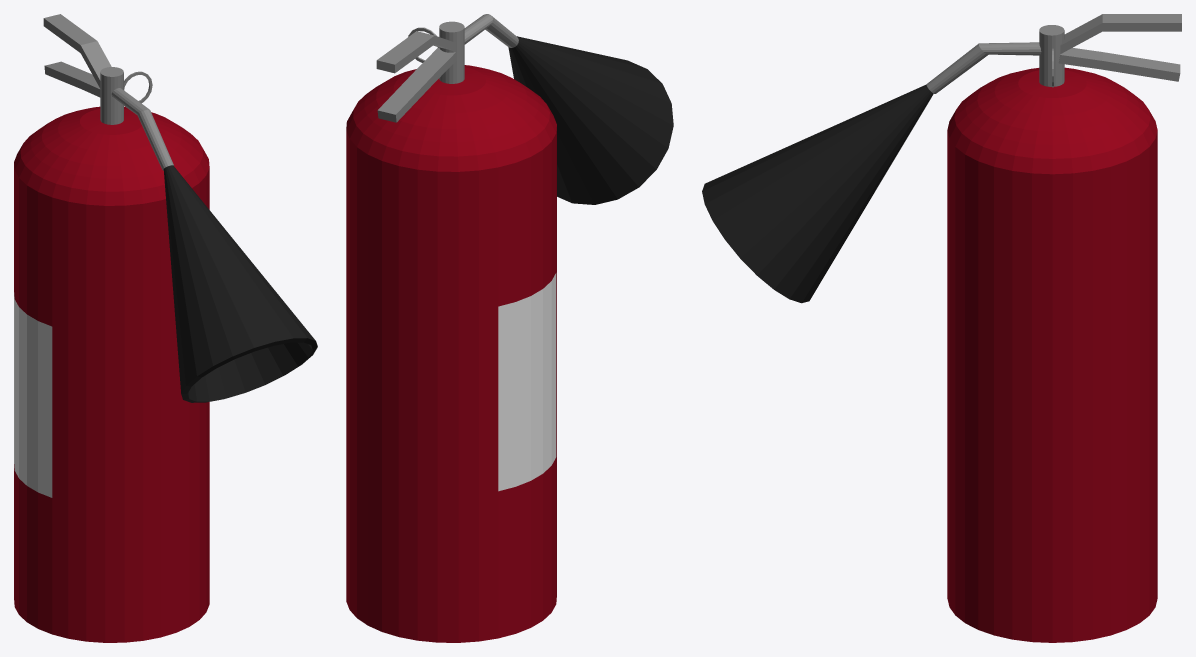
Rendered from fire_fighter.fbx.
3 renders of one model, left to right at view 1: azimuth 30°, elevation 25°; view 2: azimuth 150°, elevation 25°; view 3: azimuth 270°, elevation 25°, orthographic. The views are drawn at different scales.
Visible parts, largest first — view 1: Circle, Cone, Cube, Cylinder, Cylinder.001, Cube.001; view 2: Circle, Cone, Cube.001, Cube, Cylinder.001, Cylinder; view 3: Circle, Cone, Cube, Cube.001, Cylinder, Cylinder.001.
Part boxes in pixels (left/top/right/bottom): Circle: left=14, top=106, right=209, bottom=642; Cone: left=163, top=165, right=317, bottom=402; Cube: left=43, top=14, right=111, bottom=88; Cylinder: left=111, top=88, right=173, bottom=170; Cylinder.001: left=100, top=67, right=123, bottom=124; Cube.001: left=44, top=61, right=100, bottom=97; Circle: left=346, top=65, right=556, bottom=642; Cone: left=508, top=36, right=673, bottom=204; Cube.001: left=377, top=48, right=456, bottom=122; Cube: left=376, top=31, right=455, bottom=73; Cylinder.001: left=439, top=21, right=464, bottom=83; Cylinder: left=464, top=14, right=518, bottom=47; Circle: left=947, top=67, right=1157, bottom=642; Cone: left=702, top=84, right=933, bottom=303; Cube: left=1060, top=14, right=1181, bottom=53; Cube.001: left=1059, top=47, right=1180, bottom=81; Cylinder: left=926, top=42, right=1041, bottom=93; Cylinder.001: left=1039, top=25, right=1064, bottom=86.
Size of the model in its own units: 199 by 611 by 454.
